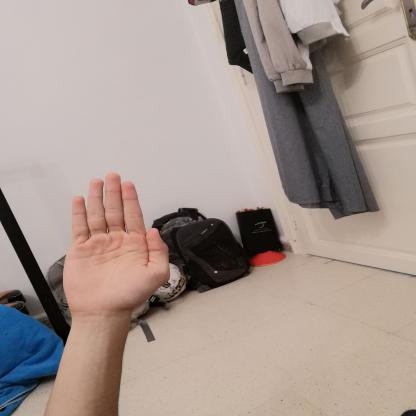SEEN: (55, 167, 180, 320)
